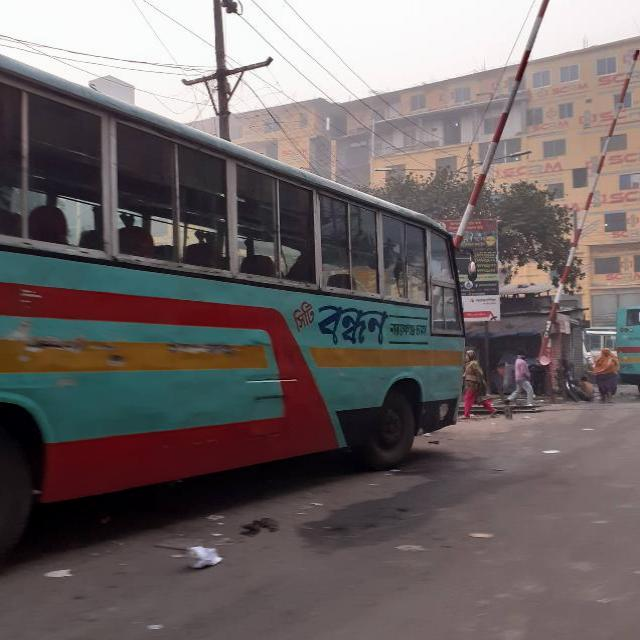BUS: (0, 53, 461, 564)
